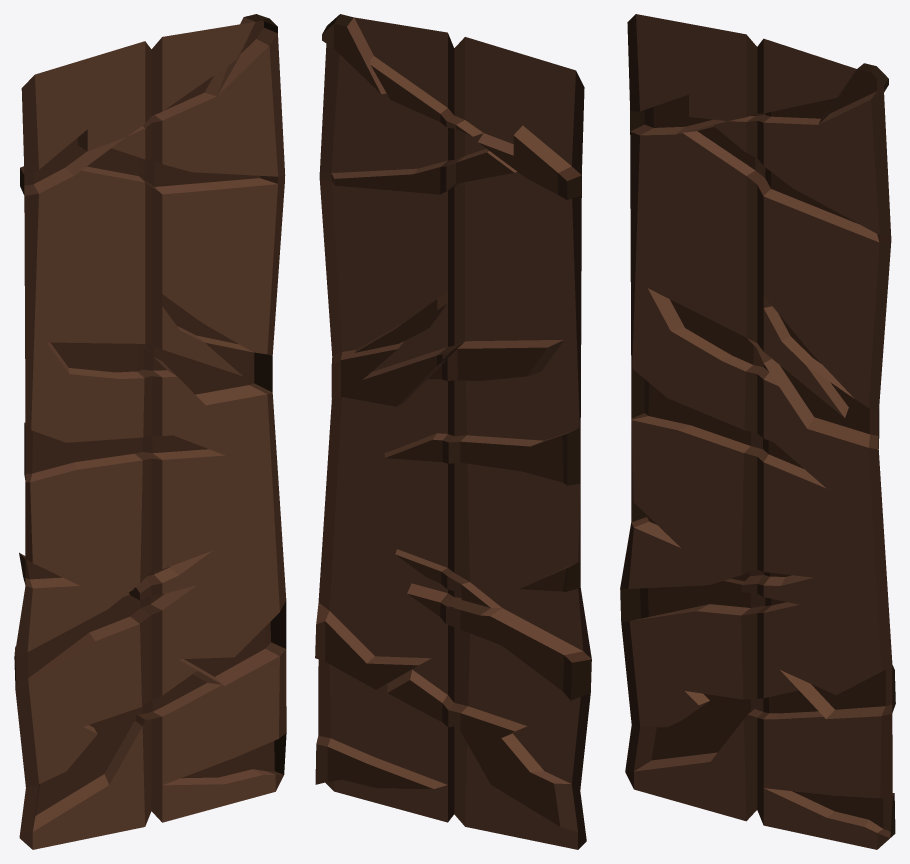
The model's file is breakable_woodenWall_midDmg_mod_01.fbx.
3 renders of one model, left to right at view 1: azimuth 30°, elevation 25°; view 2: azimuth 150°, elevation 25°; view 3: azimuth 330°, elevation 25°, orthographic.
Parts seen in each view (by area): view 1: Cube; view 2: Cube; view 3: Cube.
Part boxes in pixels (<box>): Cube: <box>14,14,286,849</box>; Cube: <box>315,14,591,849</box>; Cube: <box>620,14,895,849</box>.
Bounding box in the file's own units: 2.17 × 0.2243 × 6.
